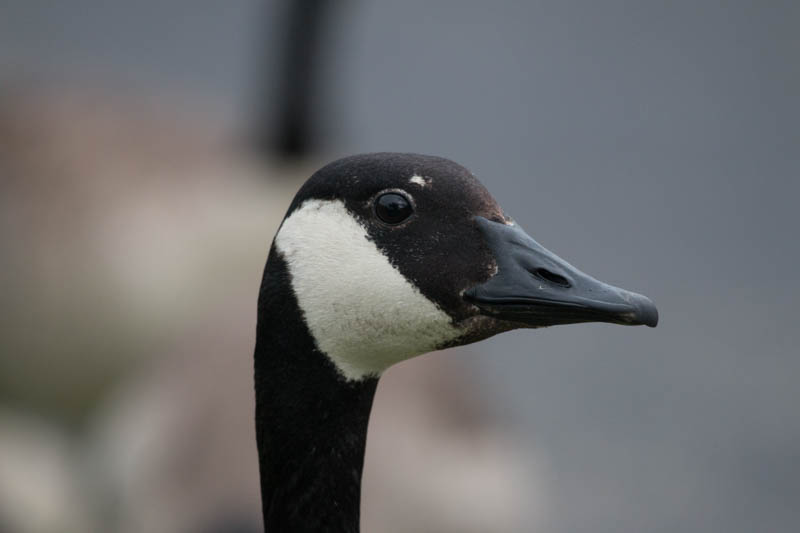goose-head: (253, 152, 659, 384)
